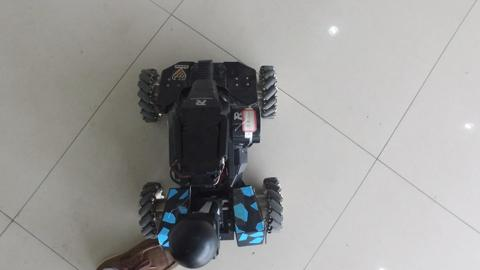chariot: (90, 26, 298, 258)
